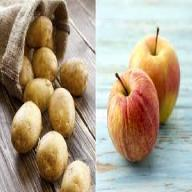apple: (127, 31, 182, 126), (107, 70, 160, 158), (10, 97, 41, 152), (38, 129, 66, 178), (48, 88, 76, 135), (59, 55, 87, 94), (23, 77, 54, 105), (63, 158, 89, 191), (34, 44, 56, 78)
